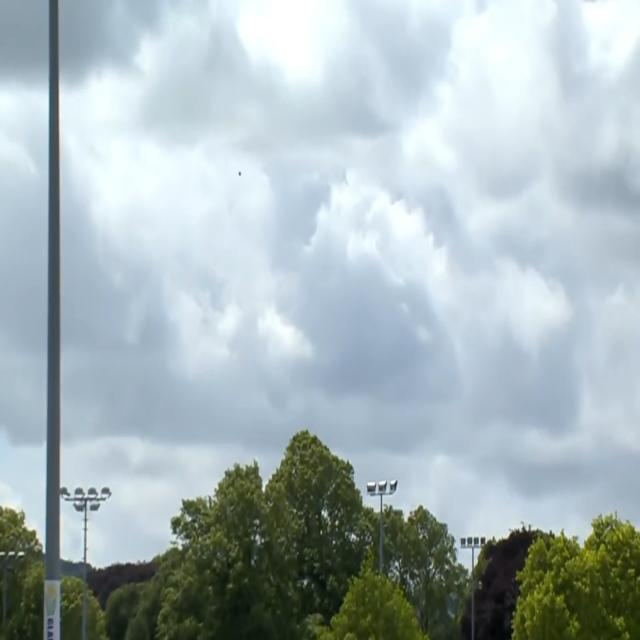ball: (234, 165, 244, 183)
